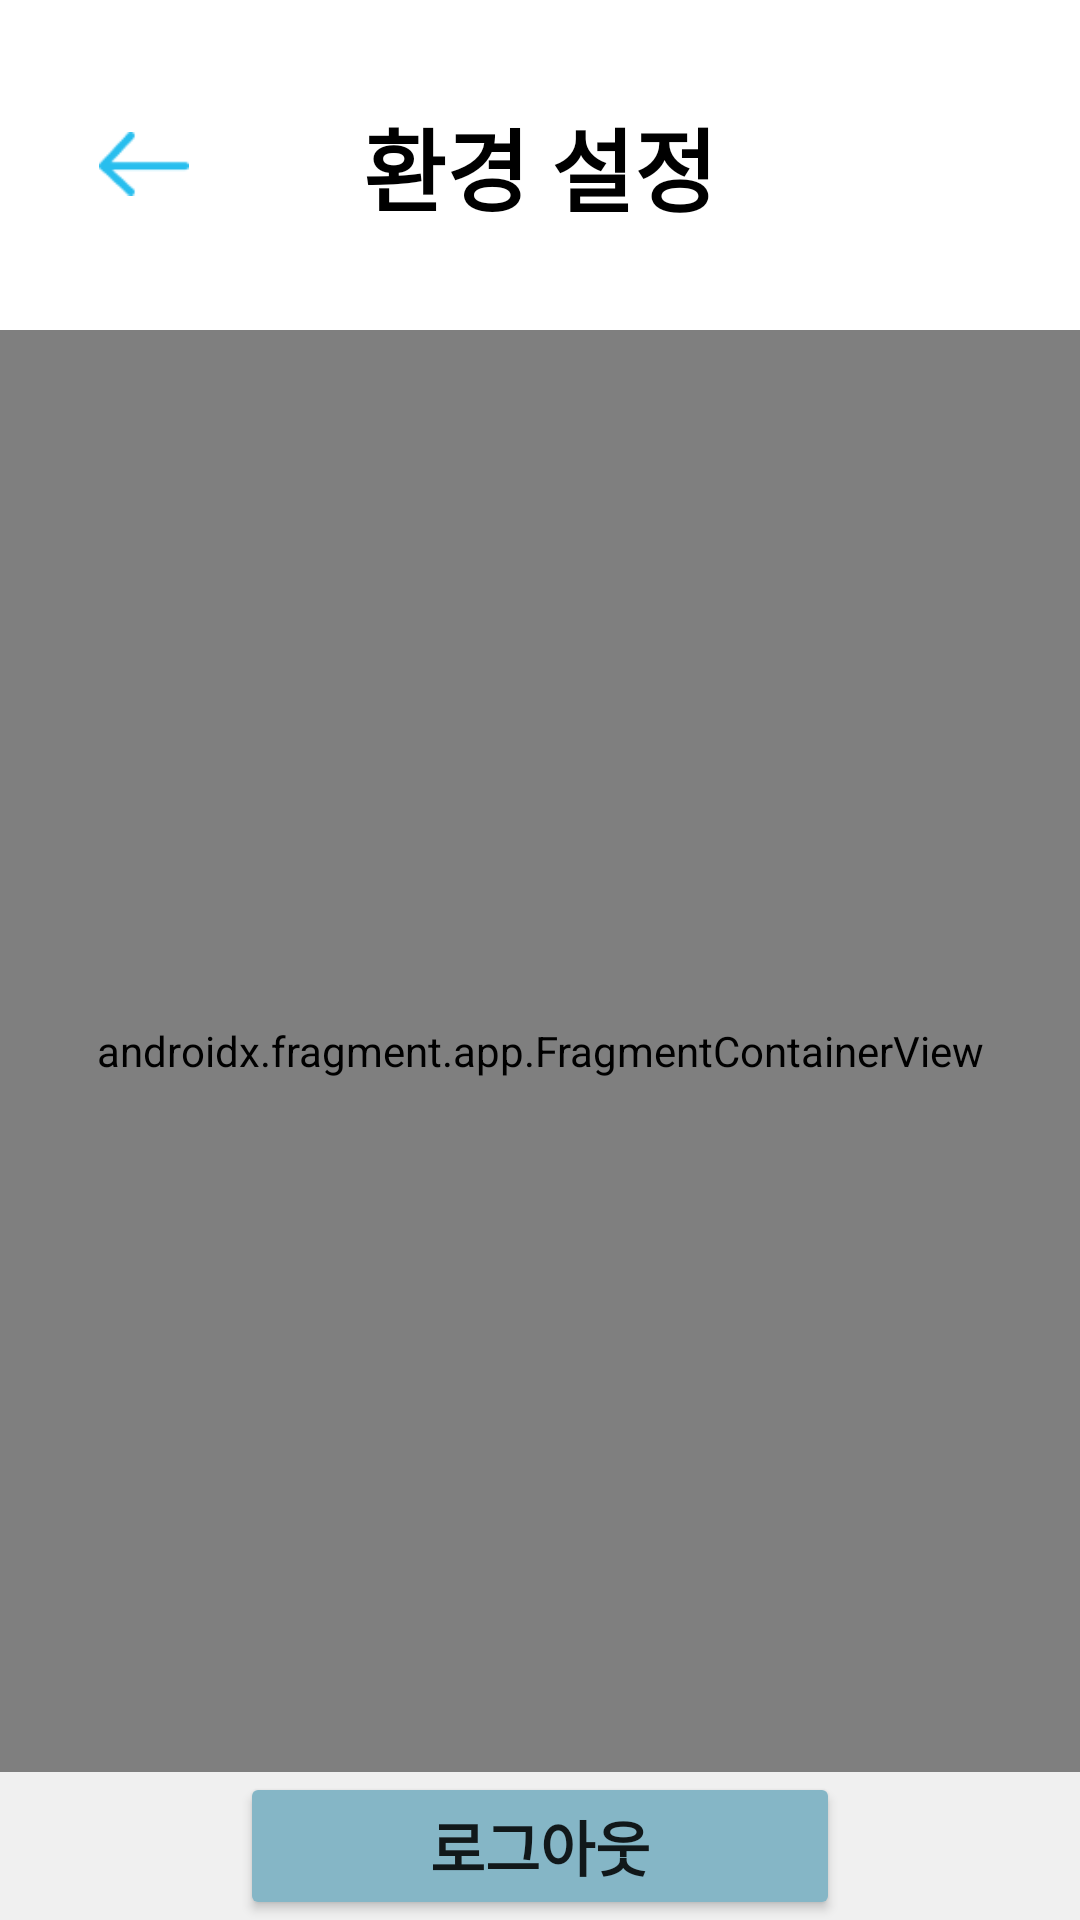

Where to tap for icons on this 1080w x 1920h app screen, as (x,y):
backbtn: (144,164)
